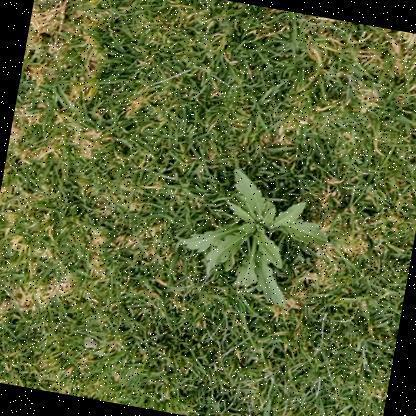Weeds: (172, 160, 338, 313)
